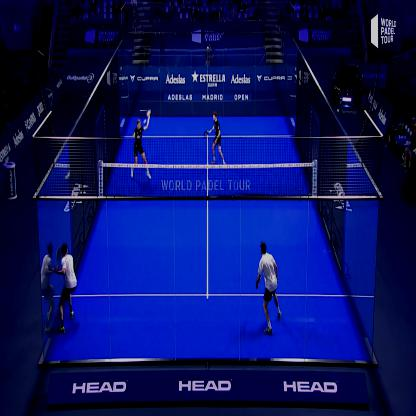ball: (140, 110, 148, 129)
